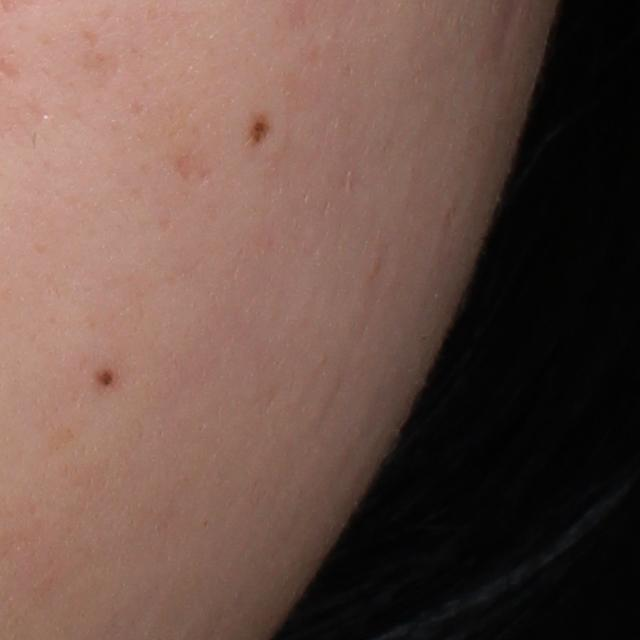nevus: (251, 115, 271, 143), (96, 368, 116, 386)
